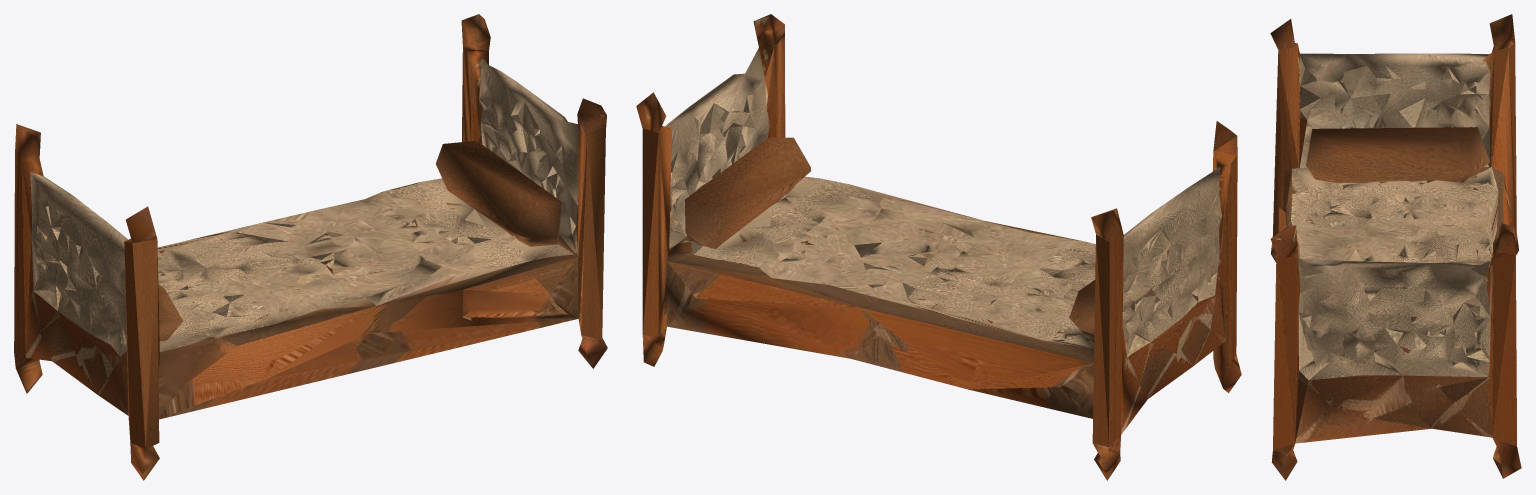
File: la_charpai.glb
3 views of the same model, side by side, from view 1: azimuth 30°, elevation 25°; view 2: azimuth 150°, elevation 25°; view 3: azimuth 270°, elevation 25° (orthographic). The views are drawn at different scales.
Visible parts, largest first — view 1: la_charpai; view 2: la_charpai; view 3: la_charpai.
Part boxes in pixels (box(x1,y1,x2,y2)): la_charpai: box(14, 14, 607, 480); la_charpai: box(636, 14, 1241, 480); la_charpai: box(1270, 14, 1521, 480).
Size of the model in its own units: 2.01 by 1.09 by 0.9646.
Materials: 1 (1 with a texture image).
